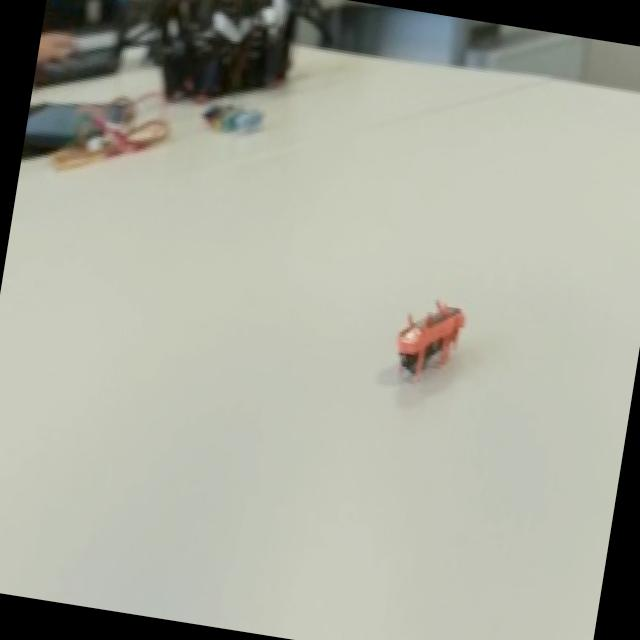7_NanoBug_Naranja: (367, 265, 483, 422)
